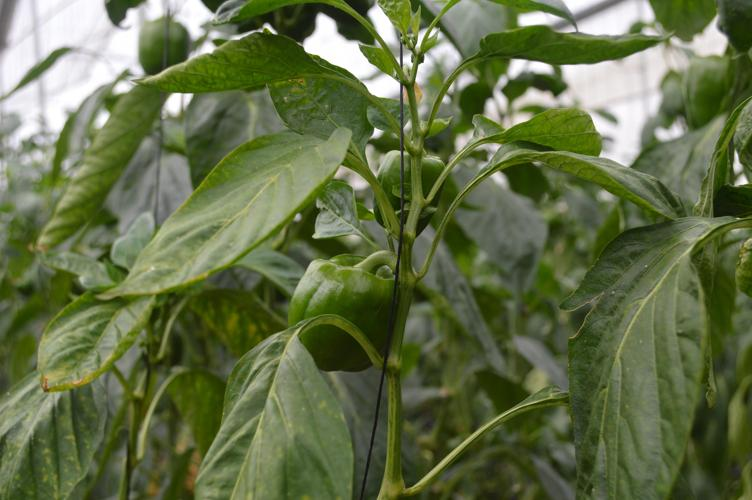BellPepper: (282, 233, 411, 393), (364, 135, 454, 242), (128, 16, 197, 77)
